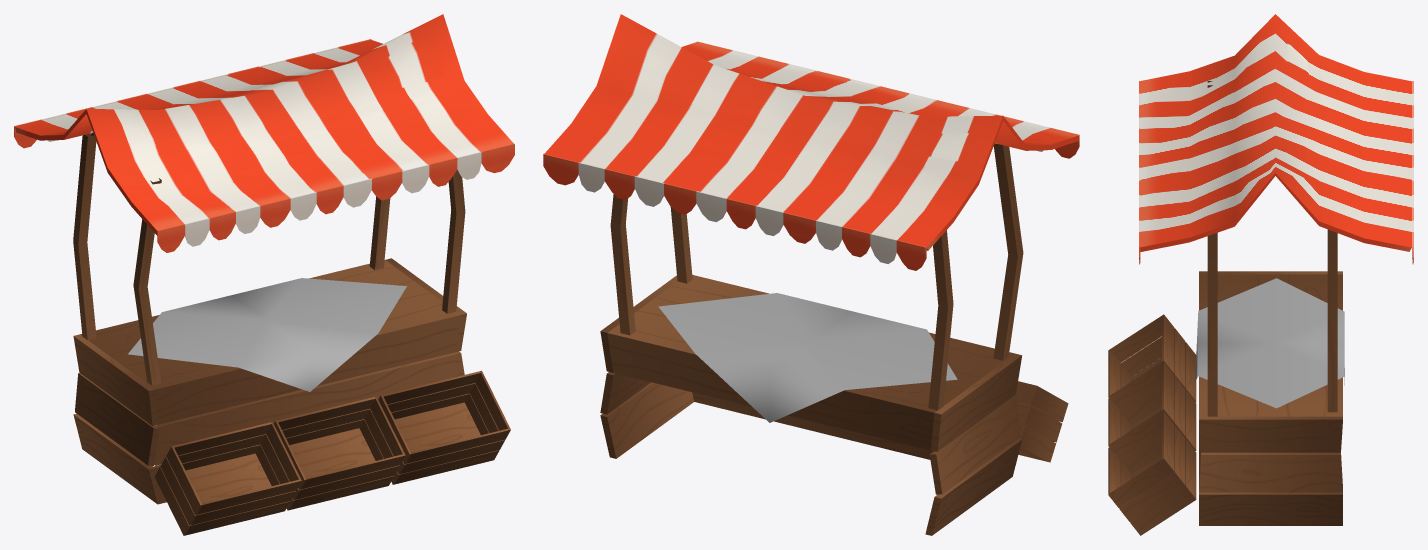
Rendered from export kraam 02.fbx.
3 views of the same model, side by side, from view 1: azimuth 30°, elevation 25°; view 2: azimuth 150°, elevation 25°; view 3: azimuth 270°, elevation 25° (orthographic). The views are drawn at different scales.
Visible parts, largest first — view 1: ROOF, pPlane1, polySurface44, polySurface7 (×3), polySurface43, polySurface49, polySurface47, polySurface2 (×3), polySurface48, polySurface13 (×3), L_BACK, polySurface12 (×3) (+20 smaller); view 2: ROOF, pPlane1, polySurface49, polySurface47, polySurface40, polySurface48, L_FRONT, polySurface46, L_BACK, polySurface41, R_BACK, polySurface42 (+17 smaller); view 3: ROOF, pPlane1, polySurface42, polySurface45, polySurface40, polySurface49, polySurface9 (×3), polySurface10 (×3), R_FRONT, R_BACK, polySurface2 (×3), polySurface3 (×3) (+7 smaller).
Boxes of the visible parts, left/top/right/bottom form: ROOF: left=15, top=14, right=513, bottom=235; pPlane1: left=128, top=278, right=406, bottom=391; polySurface44: left=152, top=312, right=460, bottom=424; polySurface7 (×3): left=185, top=402, right=480, bottom=503; polySurface43: left=154, top=353, right=458, bottom=465; polySurface49: left=80, top=260, right=455, bottom=387; polySurface47: left=75, top=373, right=159, bottom=465; polySurface2 (×3): left=173, top=371, right=480, bottom=455; polySurface48: left=73, top=334, right=158, bottom=425; polySurface13 (×3): left=197, top=428, right=508, bottom=514; L_BACK: left=73, top=133, right=96, bottom=340; polySurface12 (×3): left=191, top=440, right=503, bottom=524; ROOF: left=544, top=14, right=1078, bottom=250; pPlane1: left=658, top=293, right=957, bottom=422; polySurface49: left=607, top=279, right=1011, bottom=450; polySurface47: left=929, top=395, right=1020, bottom=494; polySurface40: left=600, top=382, right=694, bottom=458; polySurface48: left=931, top=353, right=1022, bottom=451; L_FRONT: left=993, top=143, right=1023, bottom=360; polySurface46: left=925, top=438, right=1022, bottom=535; L_BACK: left=928, top=230, right=953, bottom=410; polySurface41: left=692, top=392, right=933, bottom=459; R_BACK: left=610, top=194, right=635, bottom=335; polySurface42: left=600, top=372, right=650, bottom=414; ROOF: left=1140, top=14, right=1411, bottom=251; pPlane1: left=1195, top=278, right=1344, bottom=408; polySurface42: left=1199, top=452, right=1342, bottom=492; polySurface45: left=1199, top=416, right=1342, bottom=452; polySurface40: left=1199, top=492, right=1342, bottom=525; polySurface49: left=1205, top=274, right=1342, bottom=416; polySurface9 (×3): left=1108, top=314, right=1174, bottom=460; polySurface10 (×3): left=1120, top=328, right=1185, bottom=474; R_FRONT: left=1207, top=233, right=1217, bottom=416; R_BACK: left=1327, top=229, right=1337, bottom=412; polySurface2 (×3): left=1162, top=315, right=1174, bottom=470; polySurface3 (×3): left=1173, top=329, right=1185, bottom=484.
Bounding box in the file's own units: 13.78 × 14.37 × 10.69.
Materials: 2 (1 with a texture image).
